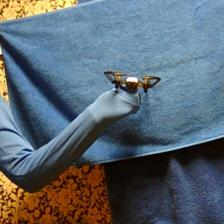drone: (105, 71, 161, 94)
